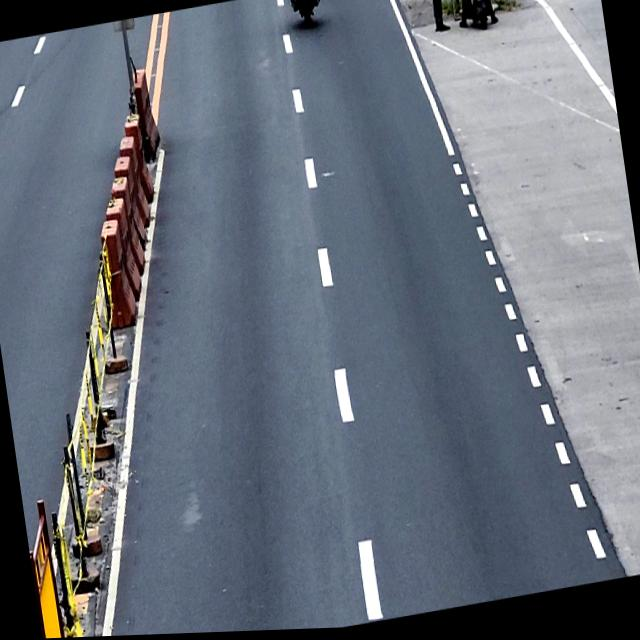License-Plate: (476, 0, 488, 5)
Motorcycle: (451, 0, 504, 37), (285, 0, 328, 33)
